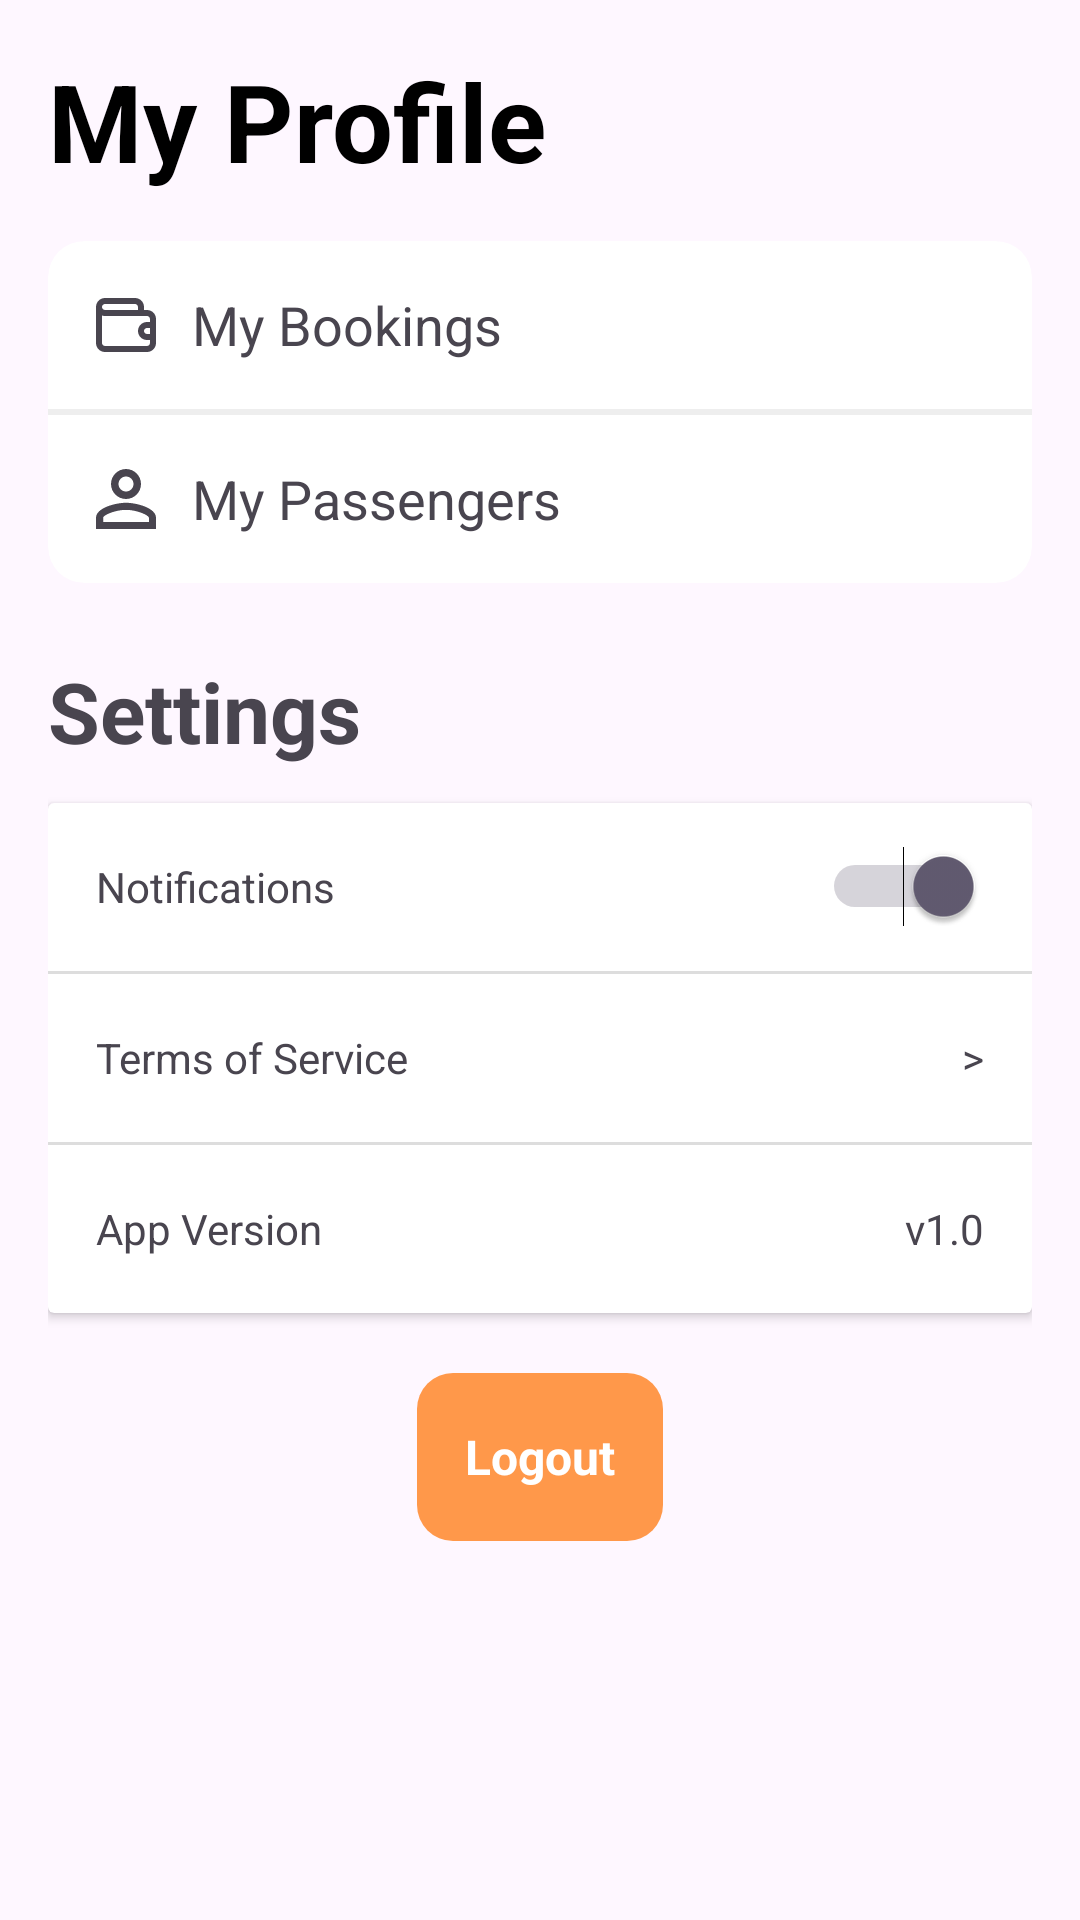

Named icons in this screenshot (1080w x 1920h) and their centers, (x=x, y=y):
profile: (x=126, y=499)
wallet: (x=126, y=325)
